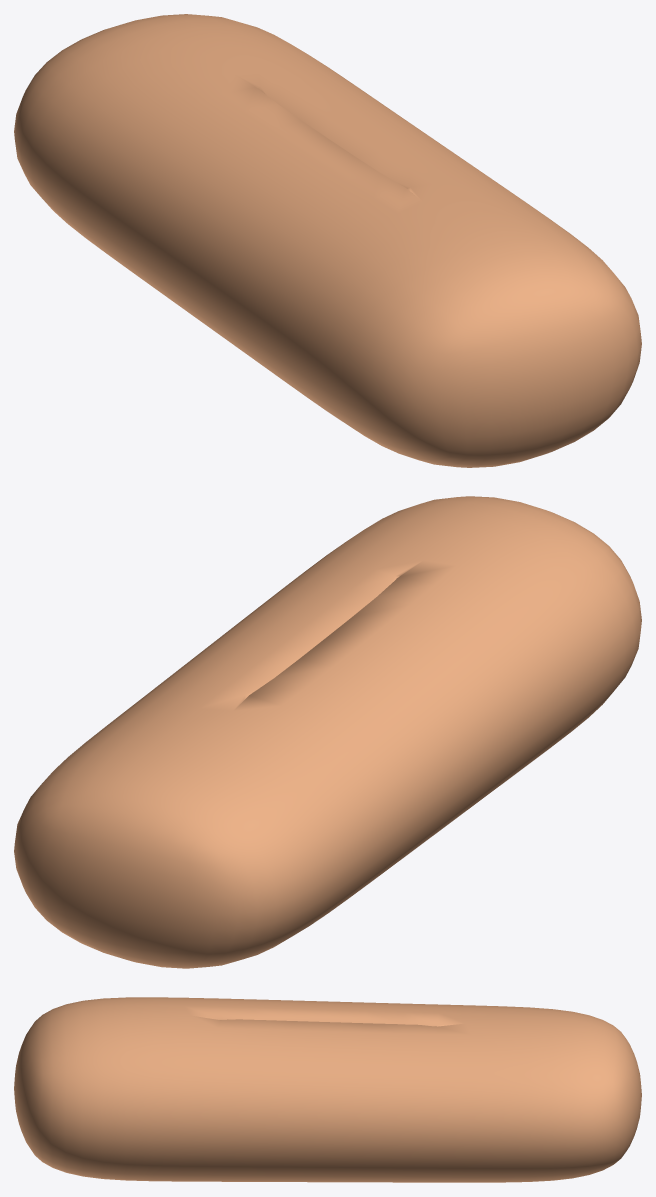
The model's file is LegThatMatters.fbx.
The picture shows the model from 3 angles, top to bottom: view 1: azimuth 30°, elevation 25°; view 2: azimuth 150°, elevation 25°; view 3: azimuth 270°, elevation 25°; orthographic projection. The views are drawn at different scales.
Parts seen in each view (by area): view 1: Outer; view 2: Outer; view 3: Outer.
Boxes of the visible parts, bbox=[...] form: Outer: bbox=[14, 14, 641, 467]; Outer: bbox=[14, 496, 641, 968]; Outer: bbox=[14, 997, 641, 1182].
Size of the model in its own units: 13.08 by 9 by 34.12.
